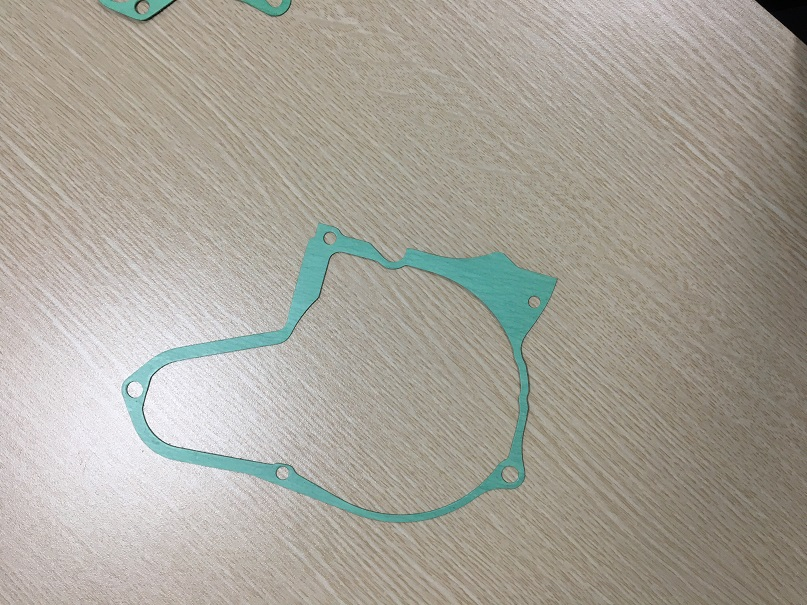type1: (114, 220, 573, 527)
